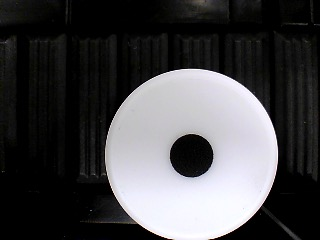BOHO: (104, 68, 279, 240)
